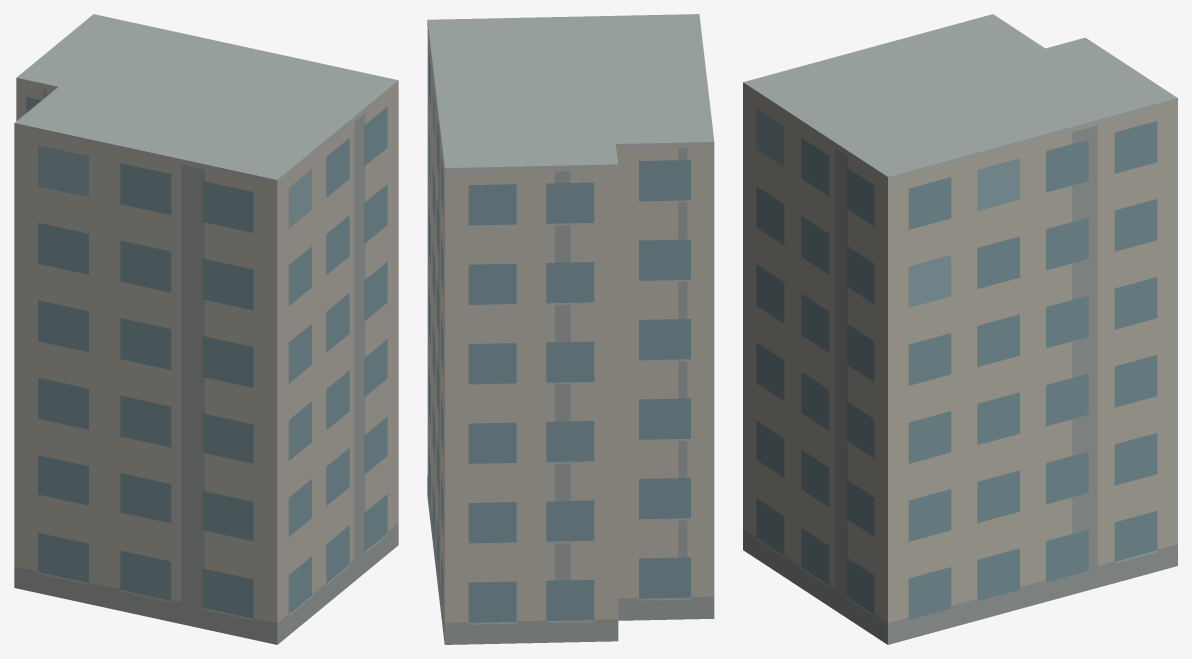
Rendered from residential-7d870a57-c9b5-4683-96a6-5a9e78397113.glb.
The picture shows the model from 3 angles, left to right: view 1: azimuth 30°, elevation 25°; view 2: azimuth 150°, elevation 25°; view 3: azimuth 270°, elevation 25°; orthographic projection. The views are drawn at different scales.
Parts seen in each view (by area): view 1: residential-7d870a57-c9b5-4683-96a6-5a9e78397113.tmp; view 2: residential-7d870a57-c9b5-4683-96a6-5a9e78397113.tmp; view 3: residential-7d870a57-c9b5-4683-96a6-5a9e78397113.tmp.
Boxes of the visible parts, x1,y1,x2,y2 form: residential-7d870a57-c9b5-4683-96a6-5a9e78397113.tmp: [14, 14, 398, 644]; residential-7d870a57-c9b5-4683-96a6-5a9e78397113.tmp: [427, 14, 714, 644]; residential-7d870a57-c9b5-4683-96a6-5a9e78397113.tmp: [743, 14, 1177, 644].
Bounding box in the file's own units: 15.25 × 20.4 × 17.19.
